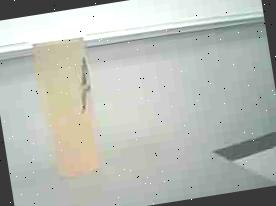Bottle A: (29, 27, 98, 177)
